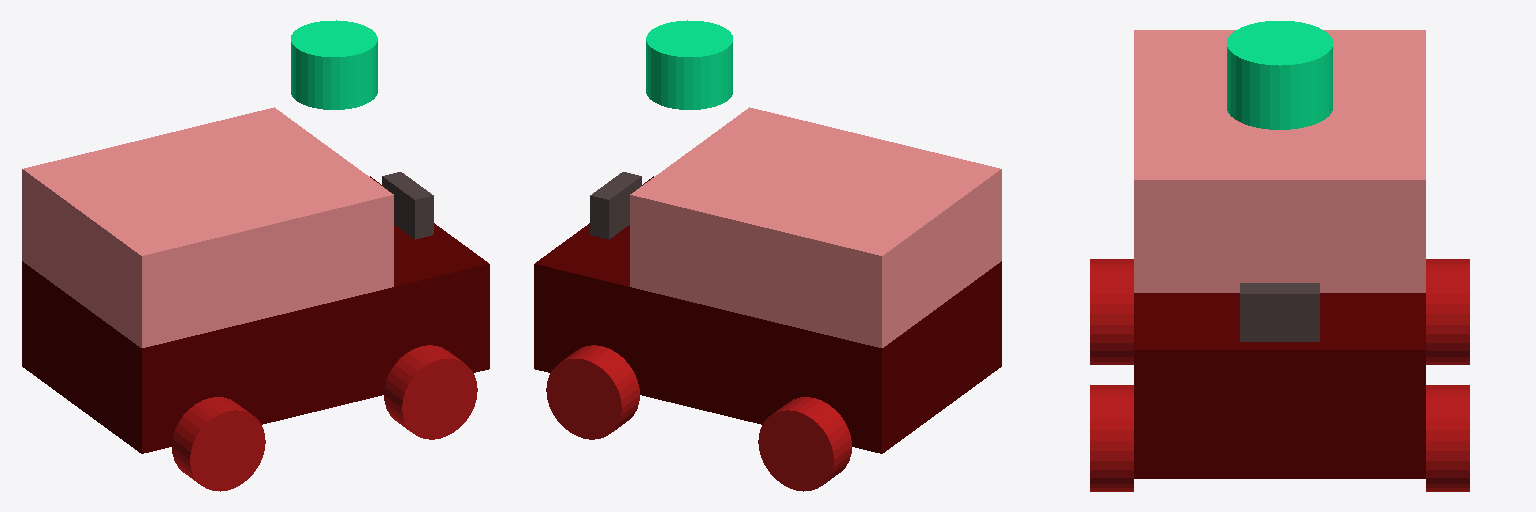
robot.urdf — mycar:
<?xml version="1.0" ?>
<!-- =================================================================================== -->
<!-- |    This document was autogenerated by xacro from origincar.xacro                | -->
<!-- |    EDITING THIS FILE BY HAND IS NOT RECOMMENDED                                 | -->
<!-- =================================================================================== -->
<robot name="mycar">
  <link name="base_link">
    <visual>
      <geometry>
        <box size="0.276 0.164 0.08"/>
      </geometry>
      <origin rpy="0 0 0" xyz="0 0 0.07"/>
      <material name="rgba(102,10,10,1)">
        <color rgba="0.4 0.0392156862745098 0.0392156862745098 1"/>
      </material>
    </visual>
  </link>
  <link name="board_link">
    <visual>
      <geometry>
        <box size="0.200 0.164 0.06999999999999999"/>
      </geometry>
      <origin rpy="0 0 0" xyz="0 0 0.034999999999999996"/>
      <material name="rgba(246,152,152,1)">
        <color rgba="0.9647058823529412 0.596078431372549 0.596078431372549 1"/>
      </material>
    </visual>
  </link>
  <link name="camera">
    <visual>
      <geometry>
        <box size="0.015 0.045 0.03"/>
      </geometry>
      <origin rpy="0 0 0" xyz="0 0 0.015"/>
      <material name="rgba(93,78,78,1)">
        <color rgba="0.36470588235294116 0.3058823529411765 0.3058823529411765 1"/>
      </material>
    </visual>
  </link>
  <joint name="camera_joint" type="fixed">
    <parent link="base_link"/>
    <child link="camera"/>
    <origin rpy="0 0 0" xyz="0.12050000000000001 0 0.11"/>
  </joint>
  <joint name="board_joint" type="fixed">
    <parent link="base_link"/>
    <child link="board_link"/>
    <origin rpy="0 0 0" xyz="-0.038000000000000006 0 0.11"/>
    <axis xyz="0 1 0"/>
  </joint>
  <!-- 激光雷达 link -->
  <link name="laser">
    <visual>
      <geometry>
        <cylinder length="0.04" radius="0.03"/>
      </geometry>
      <origin rpy="0 0 0" xyz="0 0 0"/>
      <material name="rgb(17, 244, 157)">
        <color rgba="0.06666666666666667 0.9568627450980393 0.615686274509804 1"/>
      </material>
    </visual>
  </link>
  <!-- 将雷达固定在 board_link 上 -->
  <joint name="laser_joint" type="fixed">
    <parent link="board_link"/>
    <child link="laser"/>
    <origin rpy="0 0 0" xyz="0.10 0 0.135"/>
    <!-- X: 前部安装，Y: 居中，Z: 离地0.165 -->
  </joint>
  <link name="down_left_Link">
    <visual>
      <origin rpy="-1.5707963 0 0" xyz="0 0.0 0"/>
      <geometry>
        <cylinder length="0.025" radius="0.03"/>
      </geometry>
      <material name="">
        <color rgba="0.7450980392156863 0.12941176470588237 0.12941176470588237 1"/>
      </material>
    </visual>
  </link>
  <joint name="down_left_joint" type="continuous">
    <parent link="base_link"/>
    <child link="down_left_Link"/>
    <origin rpy="0 0 0" xyz="-0.0841 0.0945 0.03"/>
    <axis xyz="0 1 0"/>
  </joint>
  <link name="down_right_Link">
    <visual>
      <origin rpy="1.5707963 0 0" xyz="0 0.0 0"/>
      <geometry>
        <cylinder length="0.025" radius="0.03"/>
      </geometry>
      <material name="">
        <color rgba="0.7450980392156863 0.12941176470588237 0.12941176470588237 1"/>
      </material>
    </visual>
  </link>
  <joint name="down_right_joint" type="continuous">
    <parent link="base_link"/>
    <child link="down_right_Link"/>
    <origin rpy="0 0 0" xyz="-0.0841 -0.0945 0.03"/>
    <axis xyz="0 -1 0"/>
  </joint>
  <link name="up_left_Link">
    <visual>
      <origin rpy="-1.5707963 0 0" xyz="0 0.0 0"/>
      <geometry>
        <cylinder length="0.025" radius="0.03"/>
      </geometry>
      <material name="">
        <color rgba="0.7450980392156863 0.12941176470588237 0.12941176470588237 1"/>
      </material>
    </visual>
  </link>
  <joint name="up_left_joint" type="continuous">
    <parent link="base_link"/>
    <child link="up_left_Link"/>
    <origin rpy="0 0 0" xyz="0.0841 0.0945 0.03"/>
    <axis xyz="0 1 0"/>
  </joint>
  <link name="up_right_Link">
    <visual>
      <origin rpy="1.5707963 0 0" xyz="0 0.0 0"/>
      <geometry>
        <cylinder length="0.025" radius="0.03"/>
      </geometry>
      <material name="">
        <color rgba="0.7450980392156863 0.12941176470588237 0.12941176470588237 1"/>
      </material>
    </visual>
  </link>
  <joint name="up_right_joint" type="continuous">
    <parent link="base_link"/>
    <child link="up_right_Link"/>
    <origin rpy="0 0 0" xyz="0.0841 -0.0945 0.03"/>
    <axis xyz="0 -1 0"/>
  </joint>
  <!-- base_footprint 足迹坐标系（位于地面） -->
  <link name="base_footprint"/>
  <joint name="base_link_to_base_footprint" type="fixed">
    <parent link="base_link"/>
    <child link="base_footprint"/>
    <origin rpy="0 0 0" xyz="0 0 -0.03"/>
  </joint>
</robot>

--- Render facts (derived) ---
Views: 3 orthographic renders of the robot side by side, from view 1: azimuth 30°, elevation 25°; view 2: azimuth 150°, elevation 25°; view 3: azimuth 270°, elevation 25°.
Robot: mycar — 9 links, 8 joints (4 continuous, 4 fixed); root link base_link; default pose: all joints at 0.
Links seen in each view (by area): view 1: board_link, base_link, laser, down_right_Link, up_right_Link, camera; view 2: board_link, base_link, laser, down_left_Link, up_left_Link, camera; view 3: board_link, base_link, laser, camera, up_left_Link, up_right_Link, down_left_Link, down_right_Link.
Link boxes in pixels (left/top/right/bottom): board_link: left=22, top=107, right=393, bottom=347; base_link: left=22, top=176, right=489, bottom=453; laser: left=291, top=20, right=377, bottom=109; down_right_Link: left=172, top=397, right=265, bottom=491; up_right_Link: left=384, top=345, right=477, bottom=439; camera: left=382, top=172, right=433, bottom=239; board_link: left=630, top=107, right=1001, bottom=347; base_link: left=534, top=176, right=1001, bottom=453; laser: left=646, top=20, right=732, bottom=109; down_left_Link: left=758, top=397, right=851, bottom=491; up_left_Link: left=546, top=345, right=639, bottom=439; camera: left=590, top=172, right=641, bottom=239; board_link: left=1134, top=30, right=1425, bottom=292; base_link: left=1134, top=293, right=1425, bottom=478; laser: left=1227, top=21, right=1332, bottom=129; camera: left=1240, top=283, right=1319, bottom=341; up_left_Link: left=1426, top=385, right=1469, bottom=491; up_right_Link: left=1090, top=385, right=1133, bottom=491; down_left_Link: left=1426, top=259, right=1469, bottom=364; down_right_Link: left=1090, top=259, right=1133, bottom=364.
Bounding box of the posed robot: 0.276 × 0.214 × 0.265 m (x, y, z).
Geometry: primitives only (box / cylinder / sphere), no mesh files.
